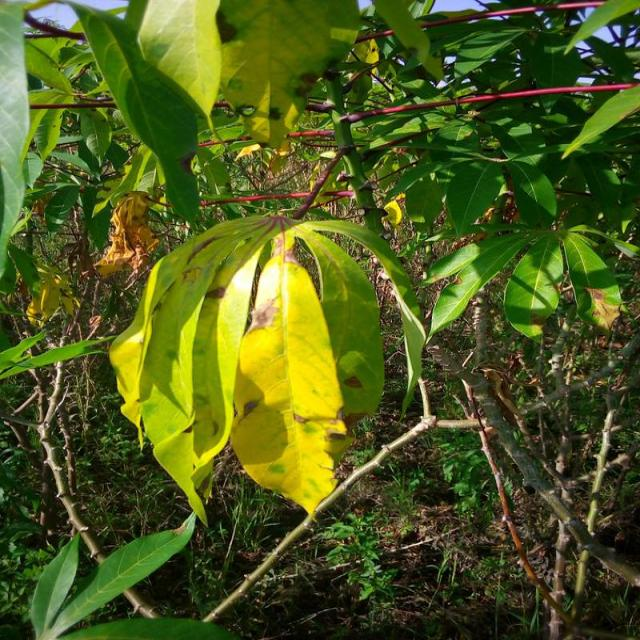cassava leaf: (108, 211, 402, 526), (228, 251, 354, 516)
